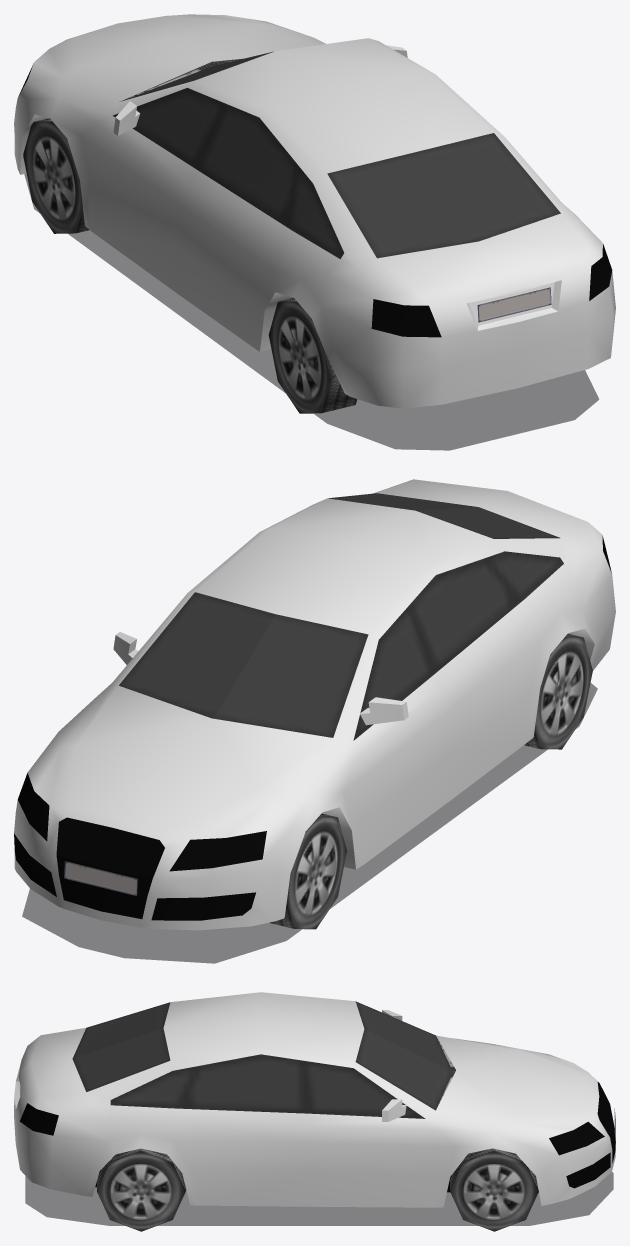
Rendered from Car.glb.
3 views of the same model, one above another, from view 1: azimuth 30°, elevation 25°; view 2: azimuth 150°, elevation 25°; view 3: azimuth 270°, elevation 25° (orthographic). The views are drawn at different scales.
Visible parts, largest first — view 1: Body, Details, Shadow, WheelFL; view 2: Body, Details, Shadow, WheelFL; view 3: Body, Details, Shadow, WheelFR.
Part boxes in pixels (x1,y1,x2,y2): Body: (14,14,615,408); Details: (19,51,612,413); Shadow: (24,174,598,450); WheelFL: (23,118,88,233); Body: (14,479,615,930); Details: (14,493,611,920); Shadow: (22,683,597,963); WheelFL: (269,813,346,929); Body: (14,992,615,1207); Details: (19,1001,615,1231); Shadow: (25,1171,613,1225); WheelFR: (450,1148,538,1231).
Size of the model in its own units: 2.2 by 1.7 by 5.5.
Materials: 3 (1 with a texture image).
